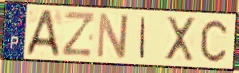A: (24, 9, 62, 57)
C: (199, 18, 229, 64)
I: (138, 15, 148, 60)
N: (95, 11, 130, 60)
X: (164, 15, 196, 63)
Z: (61, 10, 97, 58)
